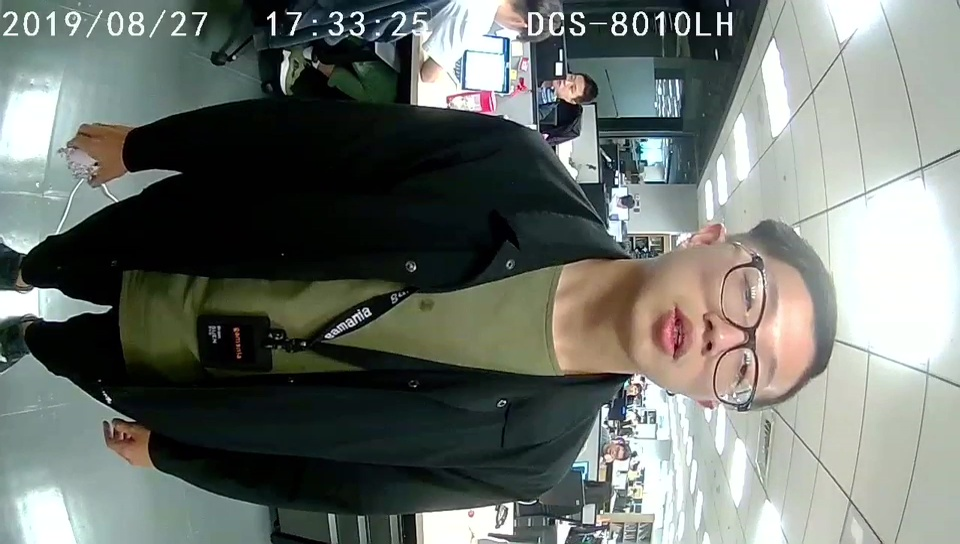pig: (65, 145, 101, 182)
